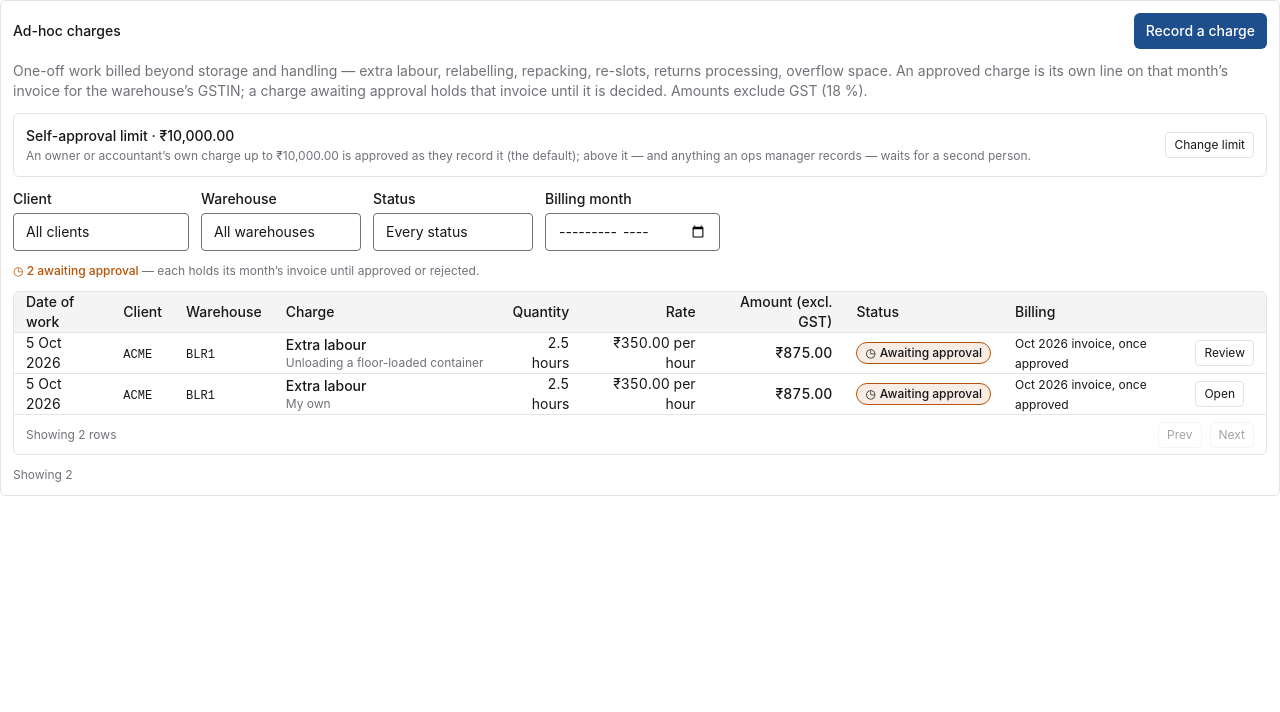
Scenario: the Ad-hoc charges tab › an accountant approves another member’s pending charge with a fresh key; their own is disabled and says why
The image size is (1280, 712).
Click the button "Review" at (1225, 353), box [1195,340,1254,366]
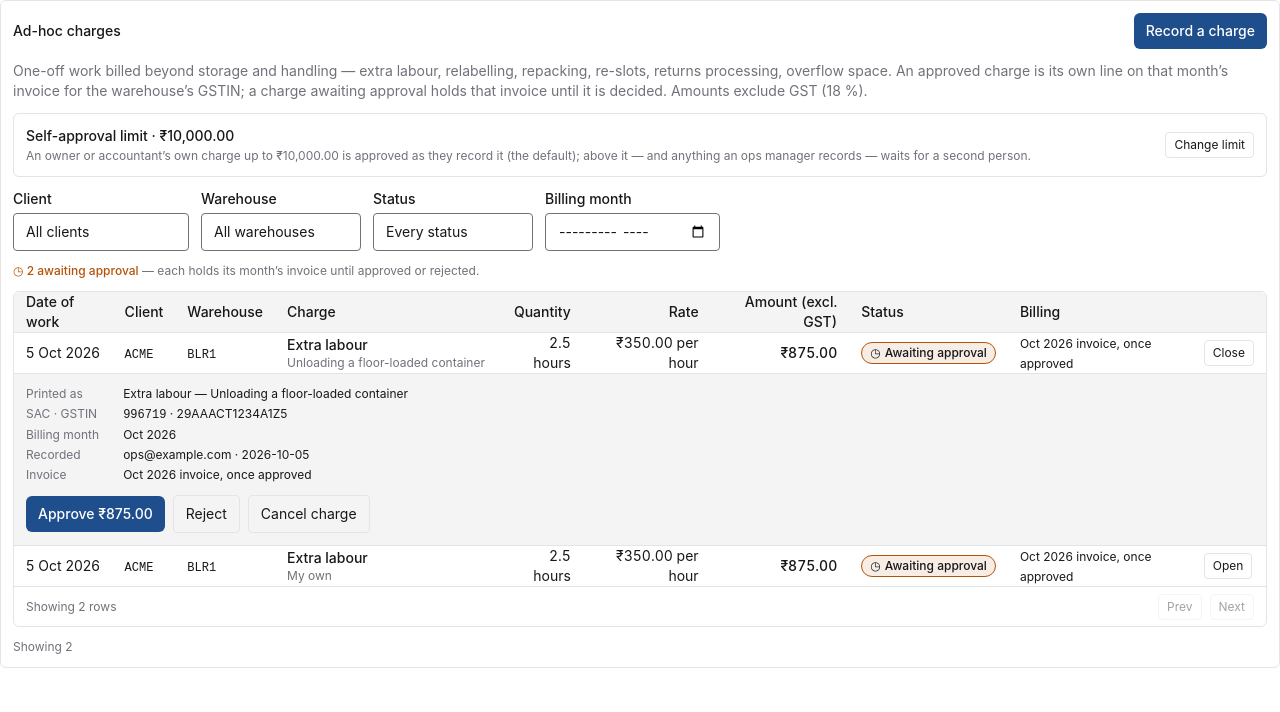
Result: the button "Approve ₹875.00" is shown
Click the button "Approve ₹875.00" at (95, 514), box [26,496,165,532]
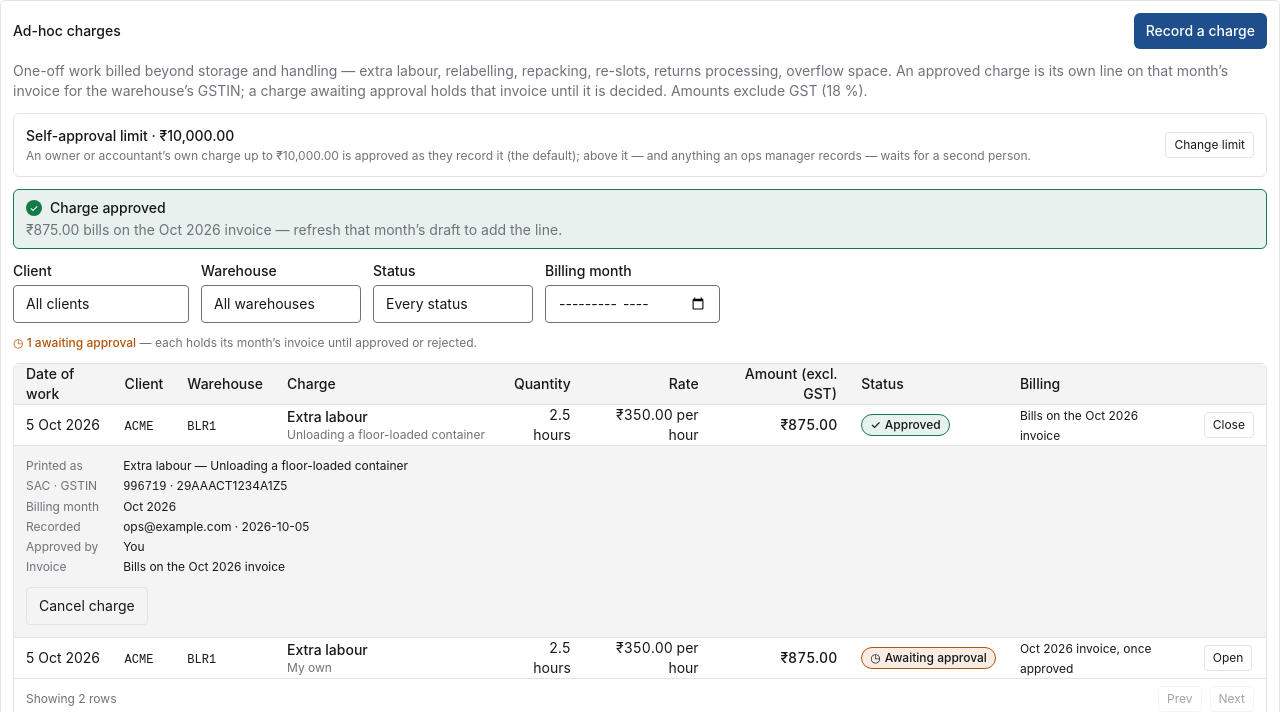
Result: the text "Charge approved" is shown at [50,199,166,216]
Click the button "Open" at (1228, 658), box [1204,645,1252,671]
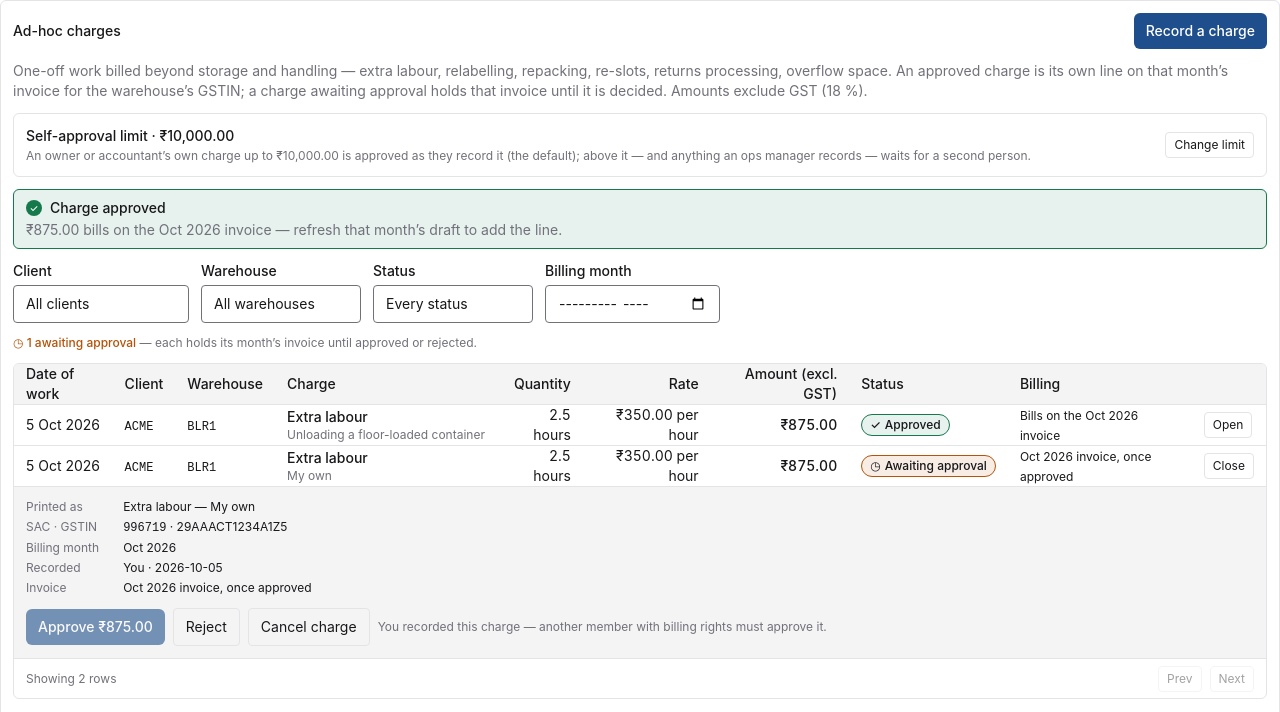
Result: the button "Approve ₹875.00" is disabled at [26,609,165,645]
Result: the text "You recorded this charge — another member with billing rights must approve it." is shown at [378,619,827,635]
